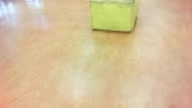cube: (88, 1, 138, 34)
